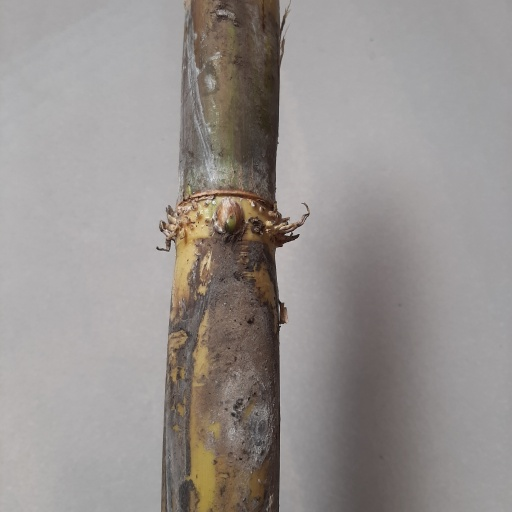Bud: (213, 197, 243, 237)
